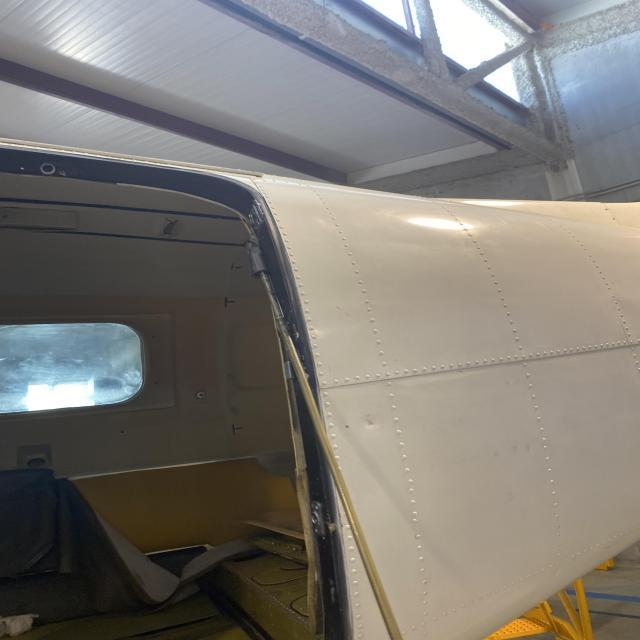Dent: (358, 410, 389, 434)
